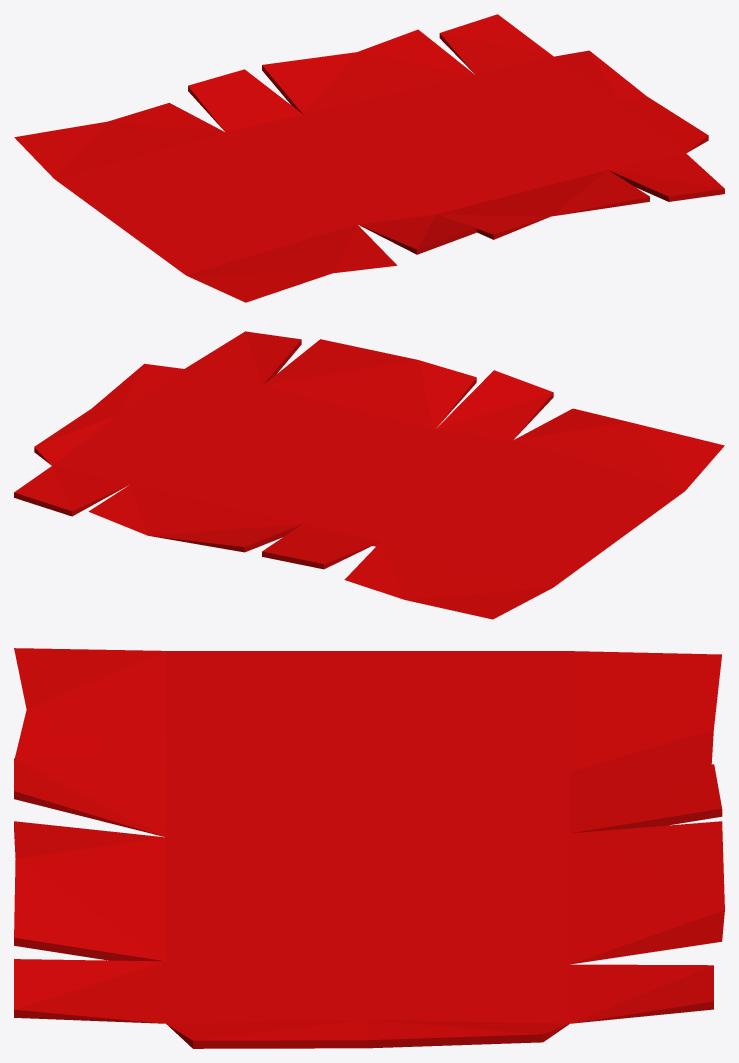
The picture shows the model from 3 angles, top to bottom: view 1: azimuth 30°, elevation 25°; view 2: azimuth 150°, elevation 25°; view 3: azimuth 270°, elevation 25°; orthographic projection. The views are drawn at different scales.
Visible parts, largest first — view 1: Mesh; view 2: Mesh; view 3: Mesh.
Part boxes in pixels (box(x1,y1,x2,y2)): Mesh: box(14, 14, 724, 302); Mesh: box(14, 331, 724, 619); Mesh: box(14, 648, 724, 1048).
Bounding box in the file's own units: 1.86 × 0.0959 × 1.41.
